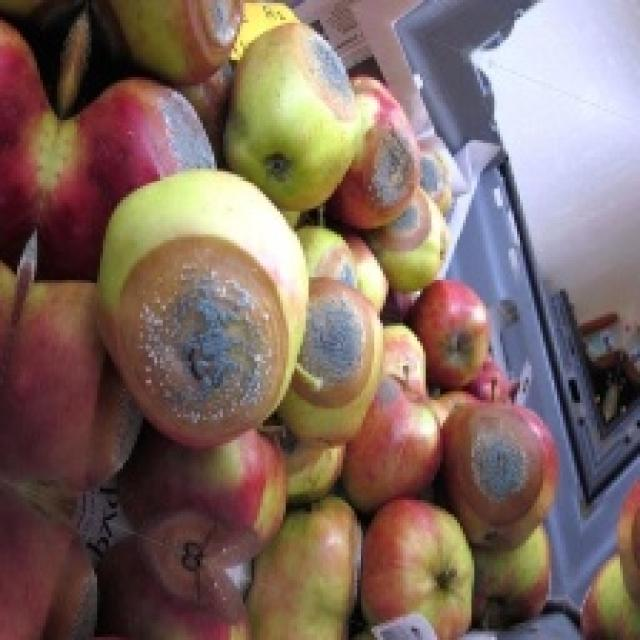rotten_apple: (105, 170, 300, 435), (250, 28, 356, 214), (134, 436, 285, 550), (450, 400, 555, 548), (0, 495, 104, 640), (107, 537, 246, 640), (306, 278, 380, 440), (92, 80, 208, 178), (118, 0, 240, 81), (359, 80, 419, 224), (372, 210, 446, 287)
